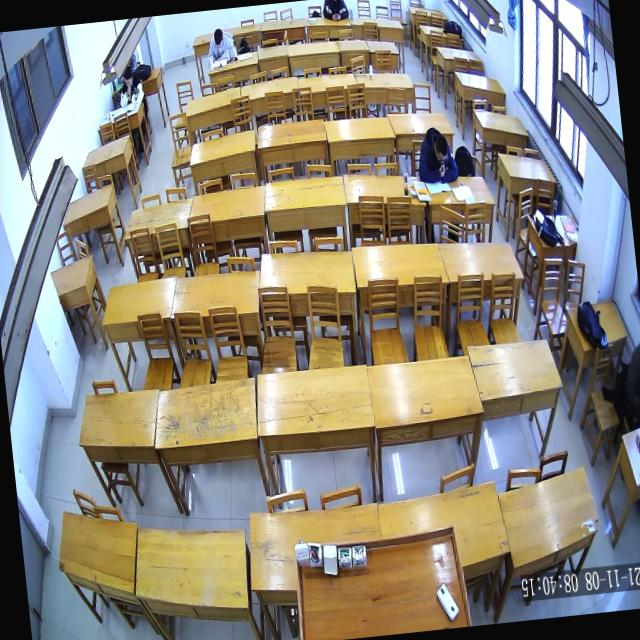bow: (414, 124, 458, 186)
down: (432, 134, 450, 164), (212, 27, 225, 48), (122, 67, 134, 88)
sit: (204, 26, 237, 64), (116, 65, 145, 107)
